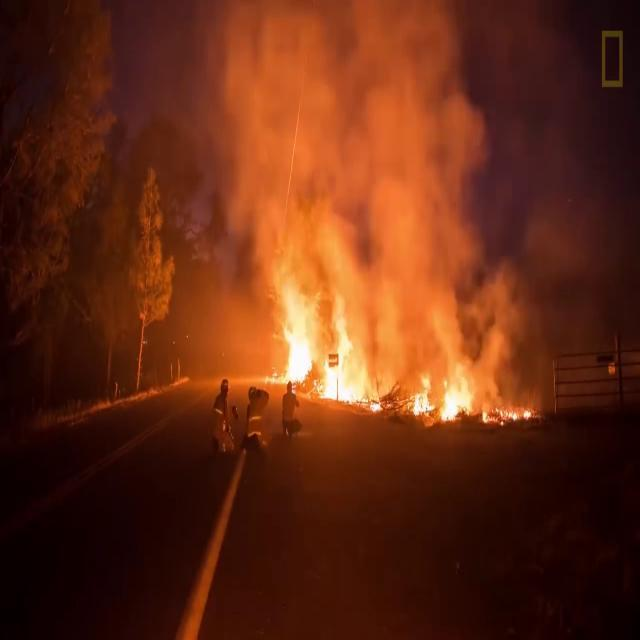Fire: (284, 286, 358, 404), (363, 378, 532, 423)
Smoke: (216, 0, 485, 278), (363, 282, 530, 372)
